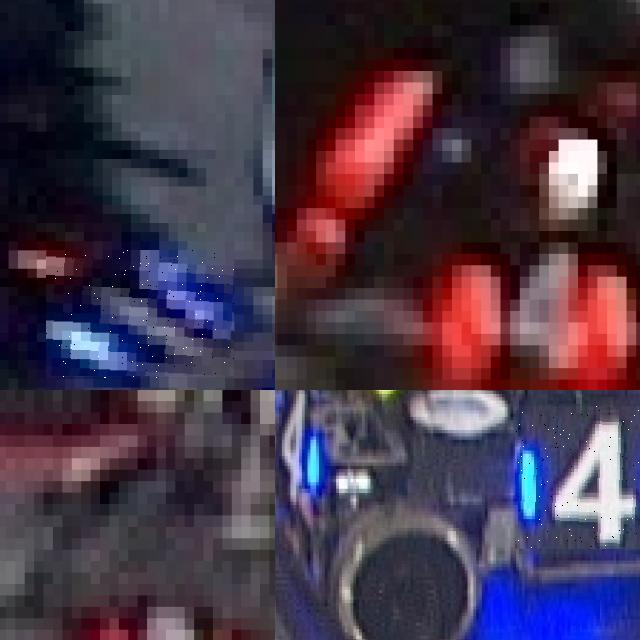B1: (46, 250, 235, 378)
B4: (514, 405, 640, 549), (275, 390, 340, 511)
R3: (53, 583, 260, 640)
R4: (451, 242, 626, 390)
